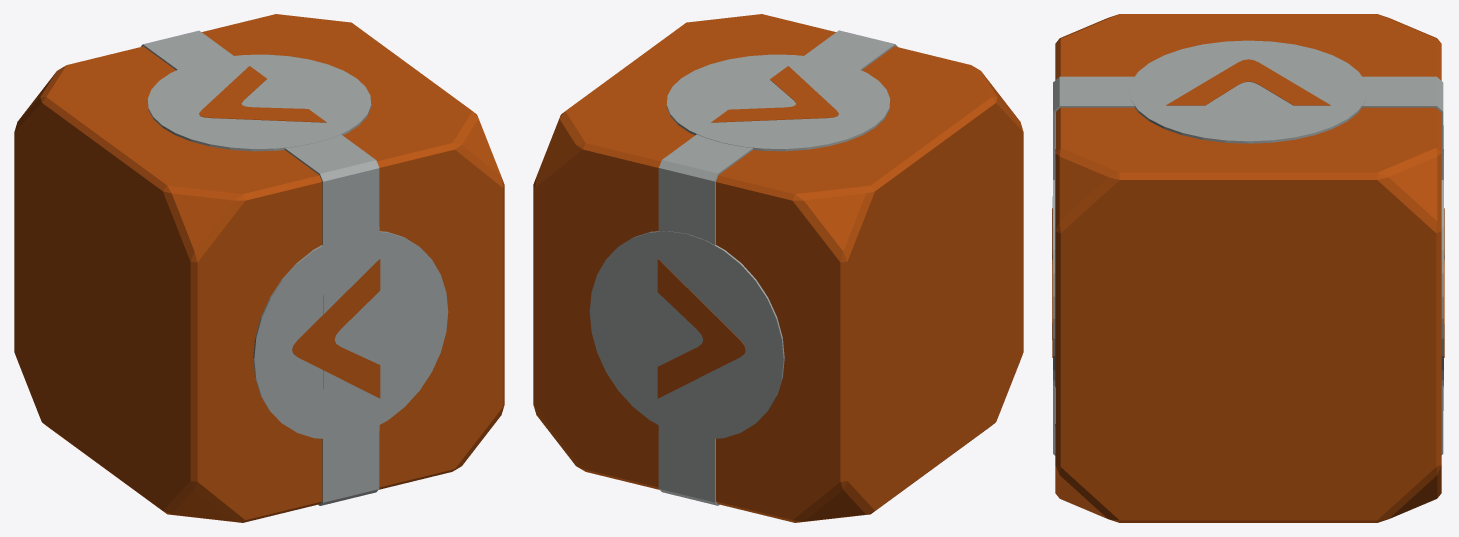
The picture shows the model from 3 angles, left to right: view 1: azimuth 30°, elevation 25°; view 2: azimuth 150°, elevation 25°; view 3: azimuth 270°, elevation 25°; orthographic projection. The views are drawn at different scales.
Visible parts, largest first — view 1: FK-04-1, FK-04-2; view 2: FK-04-1, FK-04-2; view 3: FK-04-1, FK-04-2.
Part boxes in pixels (box(x1,y1,x2,y2)): FK-04-1: box(14, 14, 504, 522); FK-04-2: box(141, 30, 448, 505); FK-04-1: box(533, 14, 1023, 522); FK-04-2: box(589, 30, 897, 505); FK-04-1: box(1052, 14, 1444, 522); FK-04-2: box(1052, 40, 1443, 455).
Bounding box in the file's own units: 9.8 × 9.96 × 9.96.
